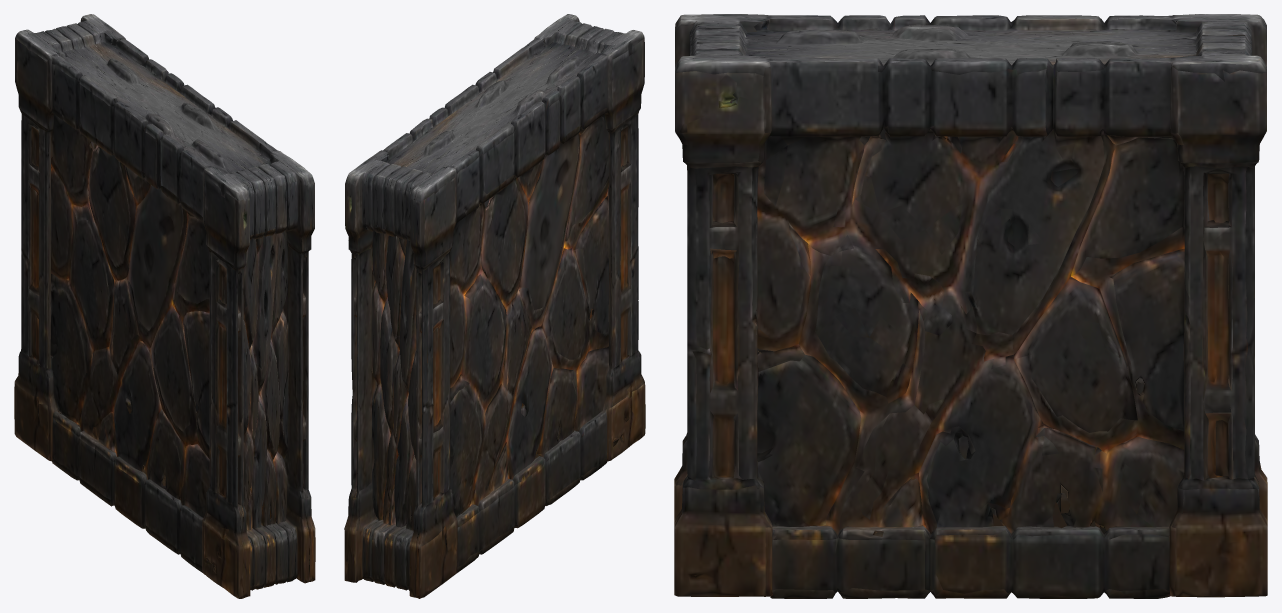
The model's file is HellWall_LavaCrack_A_UnrealReady.glb.
3 views of the same model, side by side, from view 1: azimuth 30°, elevation 25°; view 2: azimuth 150°, elevation 25°; view 3: azimuth 270°, elevation 25° (orthographic). The views are drawn at different scales.
Parts seen in each view (by area): view 1: HellWall_LavaCrack_A_UnrealReady; view 2: HellWall_LavaCrack_A_UnrealReady; view 3: HellWall_LavaCrack_A_UnrealReady.
Boxes of the visible parts, bbox=[...] form: HellWall_LavaCrack_A_UnrealReady: bbox=[14, 14, 315, 598]; HellWall_LavaCrack_A_UnrealReady: bbox=[344, 14, 645, 598]; HellWall_LavaCrack_A_UnrealReady: bbox=[674, 14, 1267, 598].
Size of the model in its own units: 1.2 by 6 by 6.
1 material, 1 textured.
